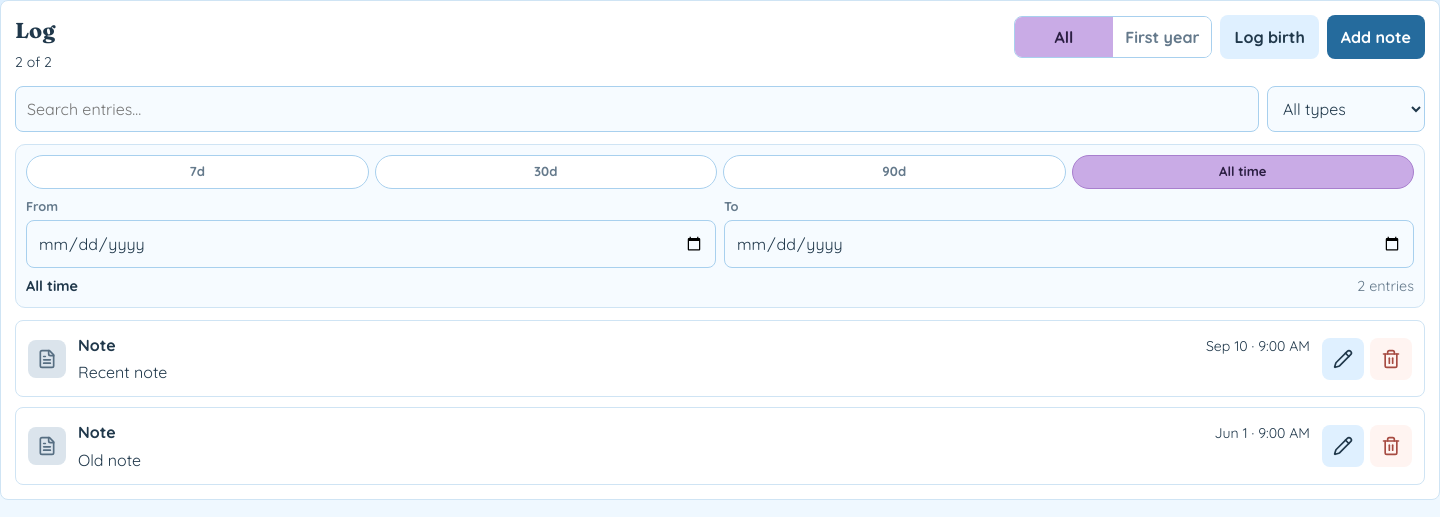
Test: Log date range › restores the full log from the All time preset
The width and height of the screenshot is (1440, 517).
Type "2026-09-01" into the date field labelled "From". click: [371, 244]
box: top-left (26, 220), bottom-right (716, 268)
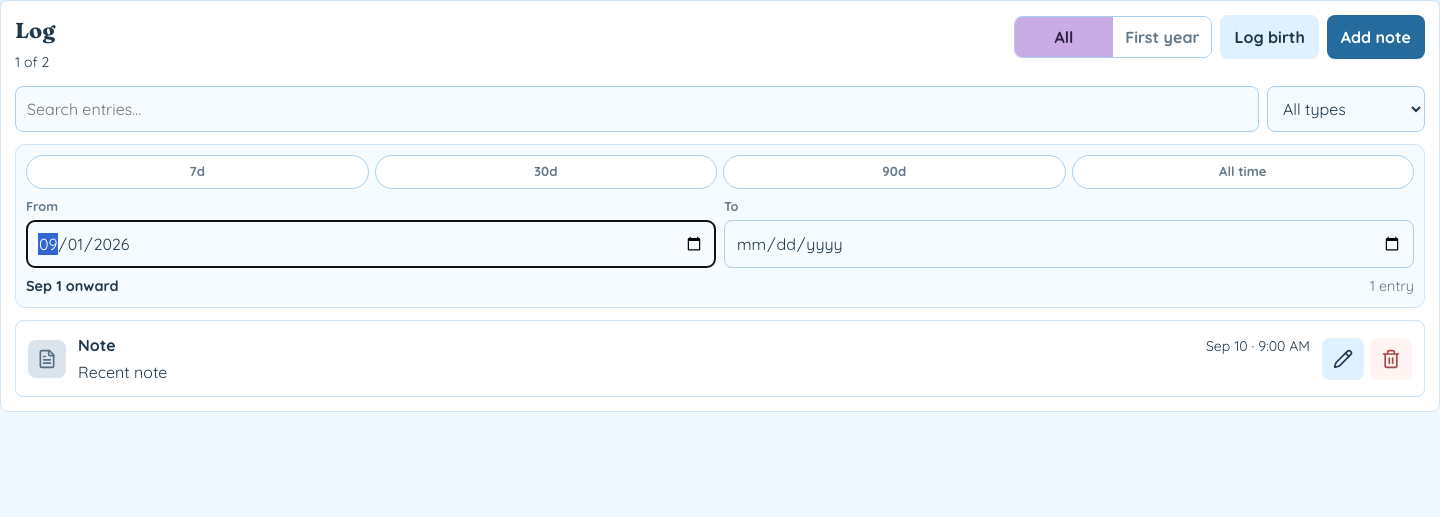
Now the text "Old note" is gone
Click the button "All time". click: [1243, 172]
box: top-left (1072, 154), bottom-right (1414, 188)
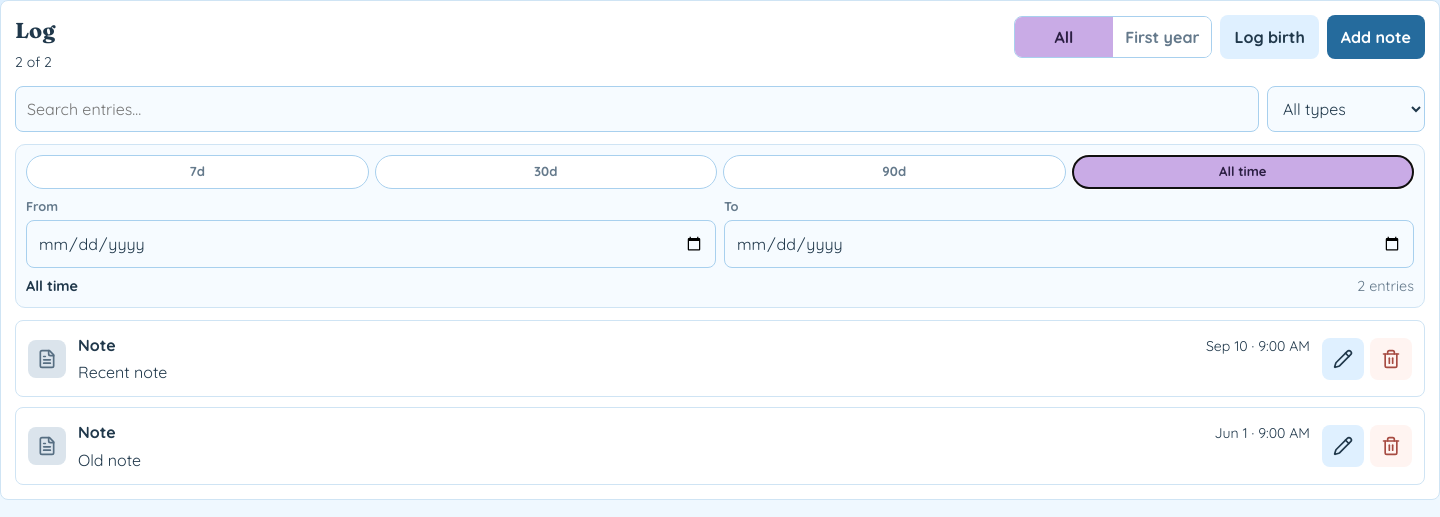
Now the text "Old note" is shown, box top-left (78, 450), bottom-right (141, 470)
